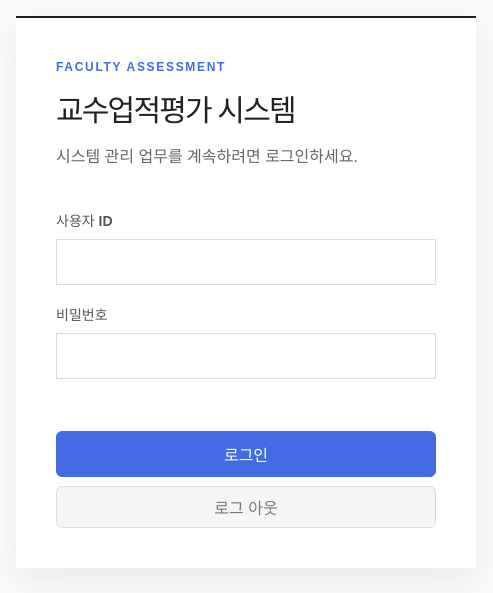
로그인 진입 › 인증 서비스 오류가 발생하면 잠시 후 재시도 안내를 표시한다
Step 1. Click the button with test id "auth-login-button" → (246, 454), box [56, 431, 436, 477]
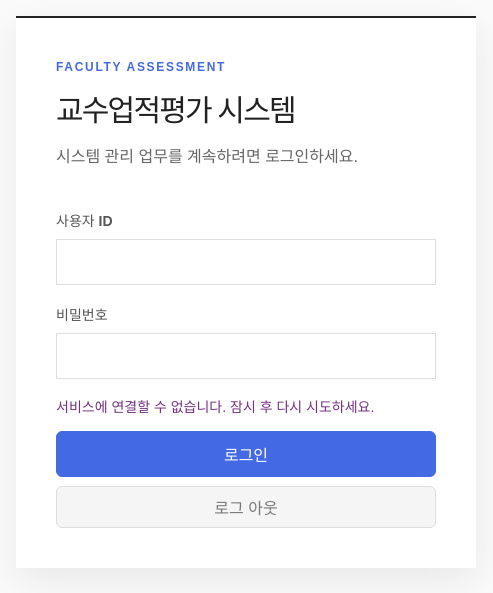
Expected: the text "서비스에 연결할 수 없습니다. 잠시 후 다시 시도하세요." is shown, [56, 399, 374, 415]
